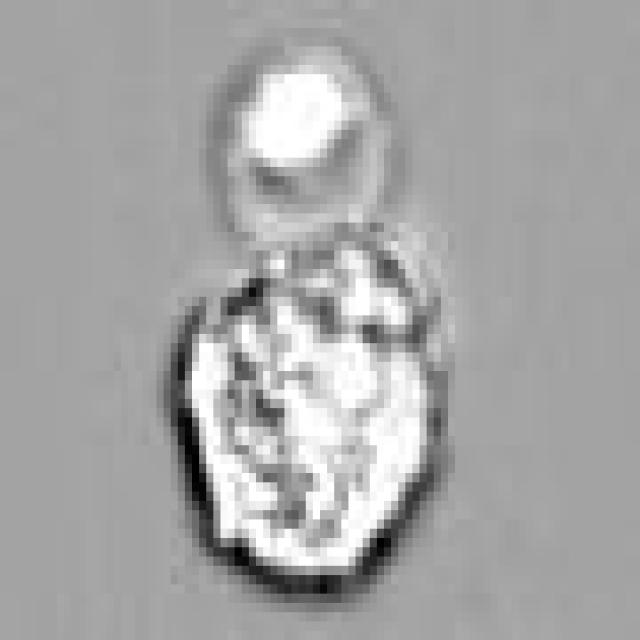Cancer Cell: (185, 222, 455, 594)
WBC: (213, 37, 391, 241)
